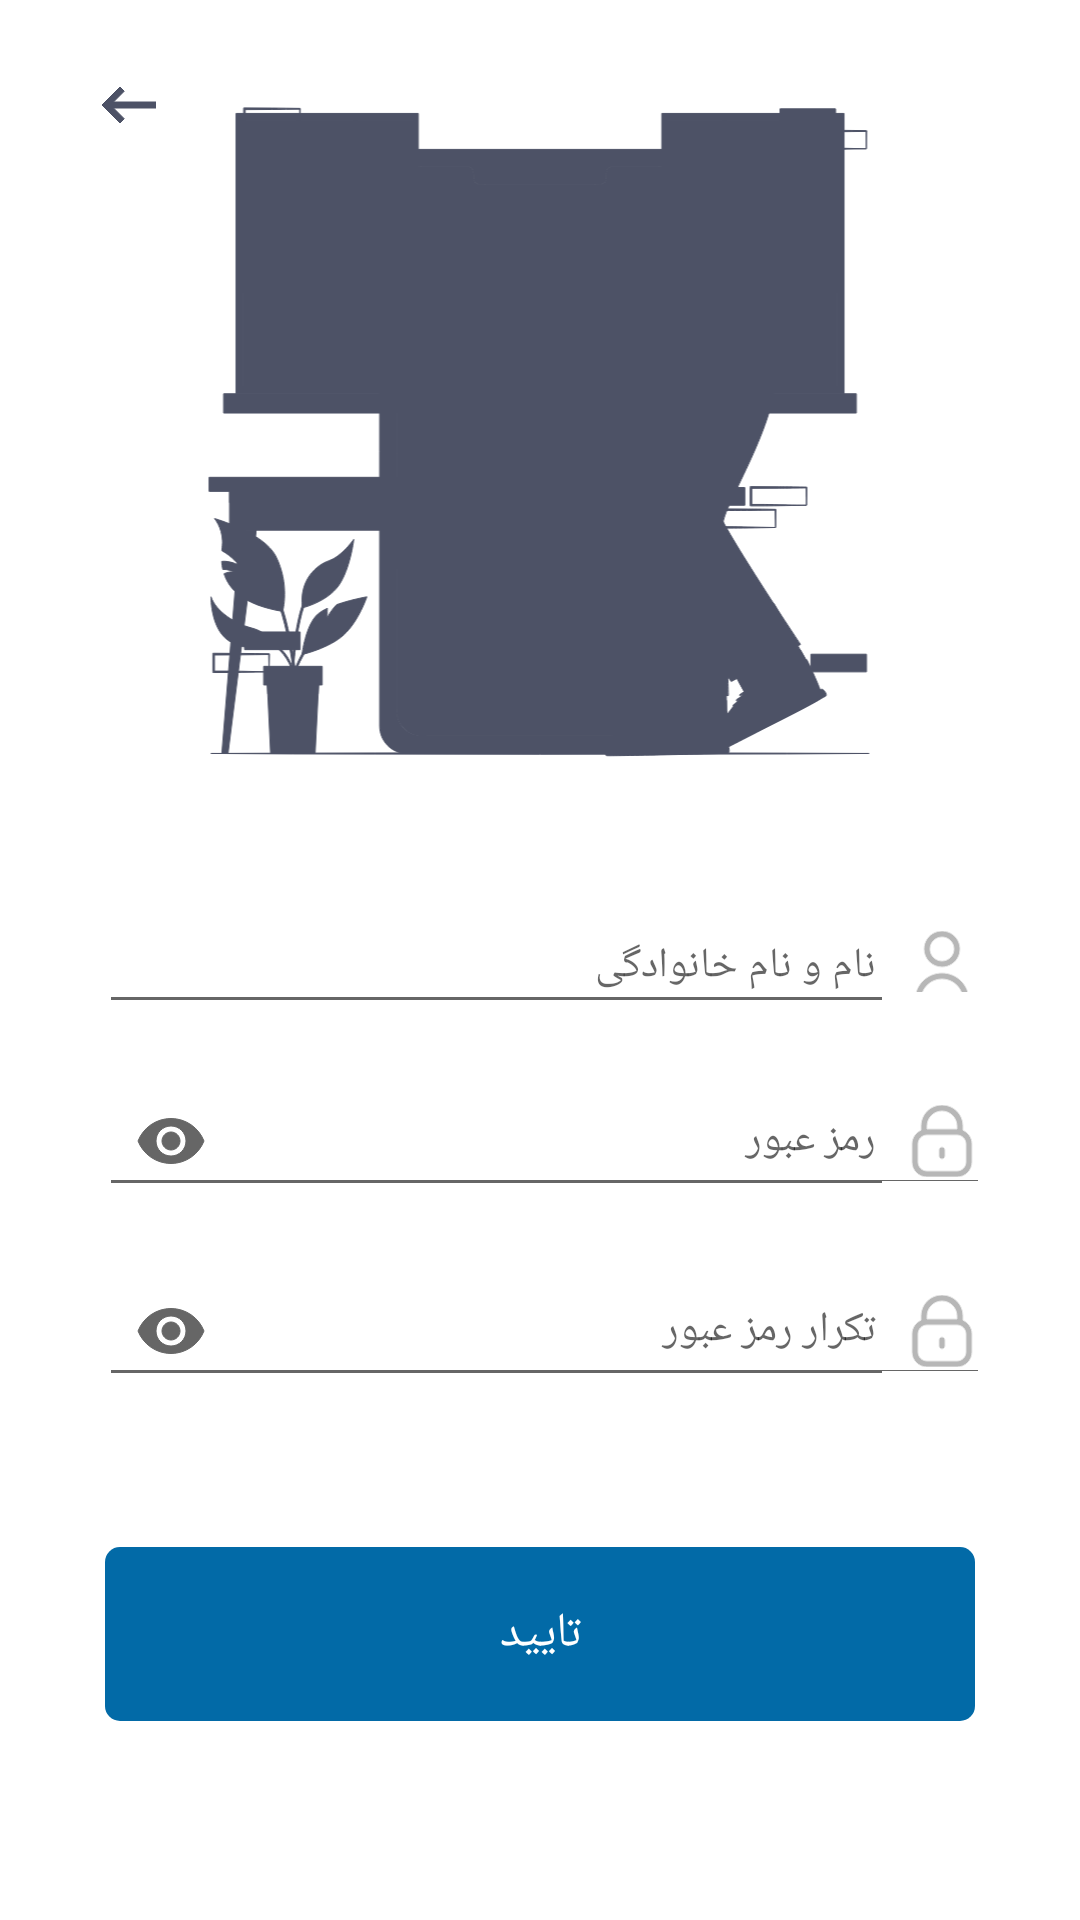

Icons on this 1080 × 1920 Android screen, each with its box as (x1, y1, x2, y2):
back: (102, 87, 156, 123)
